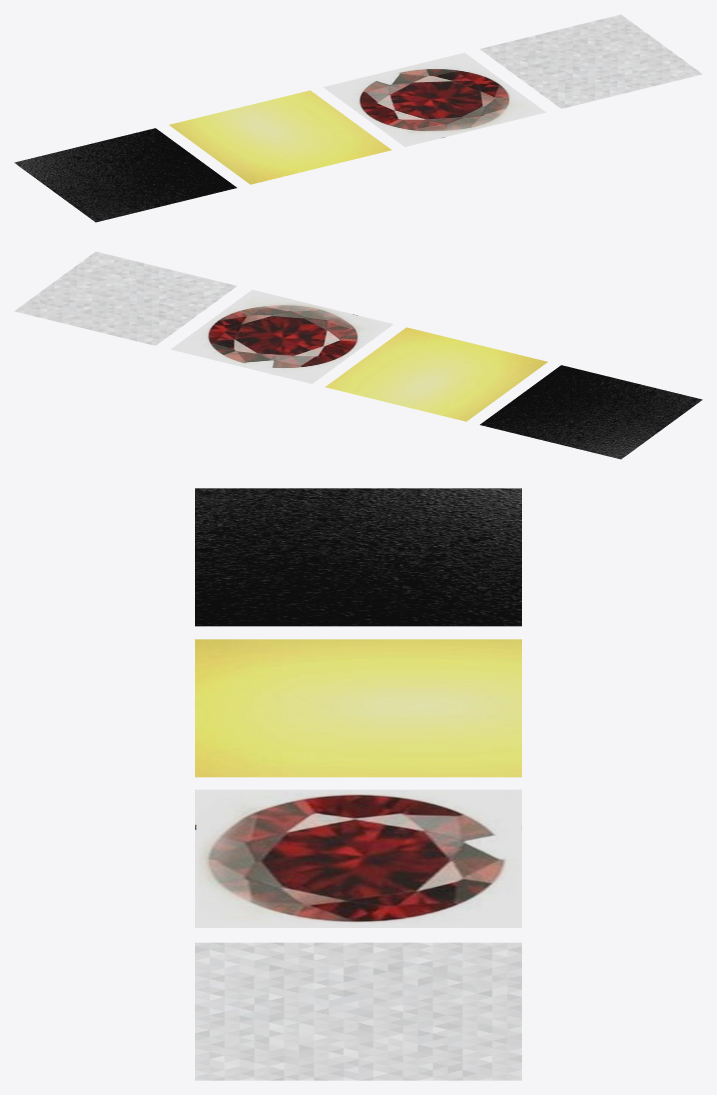
File: textures.glb
3 views of the same model, one above another, from view 1: azimuth 30°, elevation 25°; view 2: azimuth 150°, elevation 25°; view 3: azimuth 270°, elevation 25° (orthographic). The views are drawn at different scales.
Parts seen in each view (by area): view 1: black, diamond, body, core; view 2: black, diamond, body, core; view 3: body, core, black, diamond.
Boxes of the visible parts, x1=… form: black: x1=14, y1=128, x2=236, y2=222; diamond: x1=480, y1=14, x2=702, y2=108; body: x1=169, y1=90, x2=391, y2=184; core: x1=323, y1=52, x2=545, y2=146; black: x1=480, y1=365, x2=702, y2=459; diamond: x1=14, y1=251, x2=236, y2=345; body: x1=325, y1=327, x2=547, y2=421; core: x1=171, y1=289, x2=393, y2=383; body: x1=195, y1=639, x2=521, y2=777; core: x1=195, y1=789, x2=521, y2=927; black: x1=195, y1=488, x2=521, y2=626; diamond: x1=195, y1=942, x2=521, y2=1080.
Bounding box in the file's own units: 8.57 × 0 × 2.
4 materials, 4 textured.
